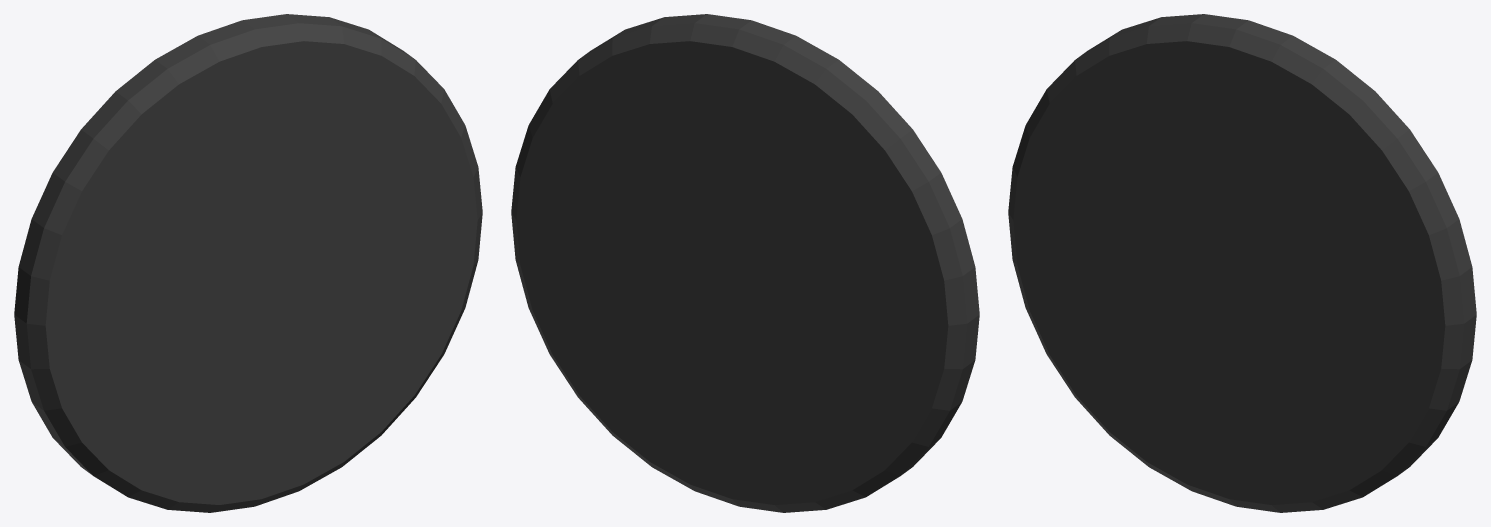
3 views of the same model, side by side, from view 1: azimuth 30°, elevation 25°; view 2: azimuth 150°, elevation 25°; view 3: azimuth 330°, elevation 25° (orthographic).
Visible parts, largest first — view 1: world; view 2: world; view 3: world.
Part boxes in pixels (box(x1,y1,x2,y2)): world: box(14, 14, 482, 512); world: box(511, 14, 979, 512); world: box(1008, 14, 1476, 512).
Size of the model in its own units: 2 by 2 by 0.2.
Materials: 1 (1 with a texture image).
